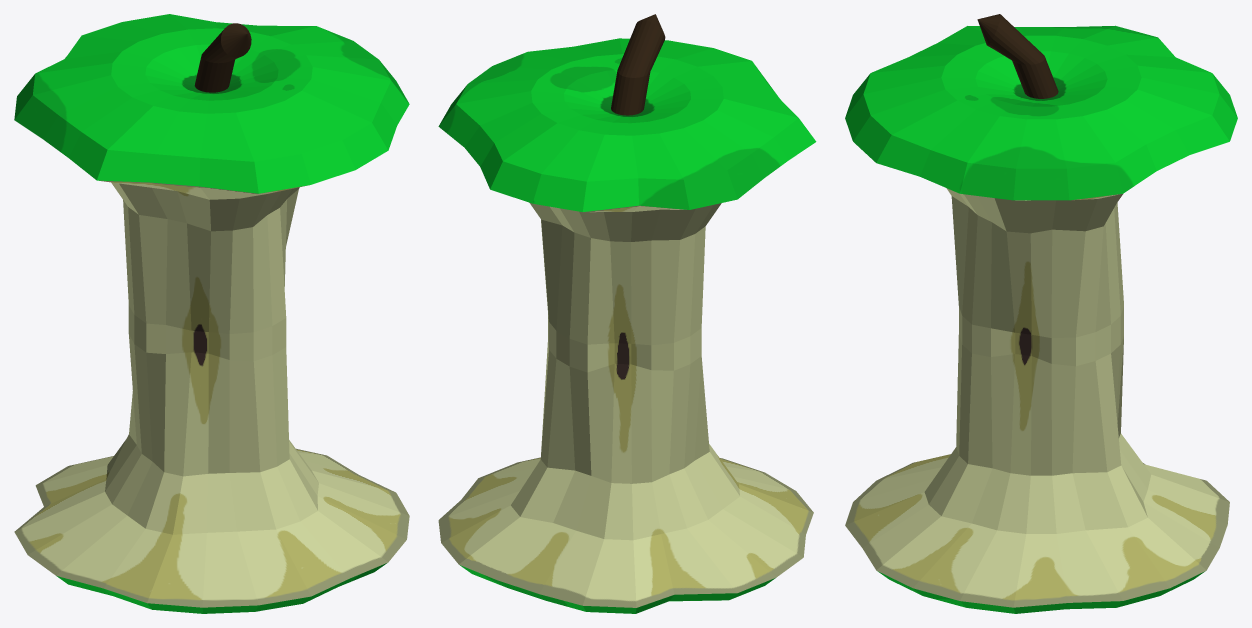
File: RS_AppleCore.fbx
The picture shows the model from 3 angles, left to right: view 1: azimuth 30°, elevation 25°; view 2: azimuth 150°, elevation 25°; view 3: azimuth 270°, elevation 25°; orthographic projection. The views are drawn at different scales.
Visible parts, largest first — view 1: Cylinder; view 2: Cylinder; view 3: Cylinder.
Part boxes in pixels (bbox=[...]): Cylinder: bbox=[14, 14, 409, 613]; Cylinder: bbox=[438, 14, 816, 613]; Cylinder: bbox=[845, 14, 1237, 613].
Bounding box in the file's own units: 7.92 × 12.55 × 8.
Materials: 1 (1 with a texture image).
